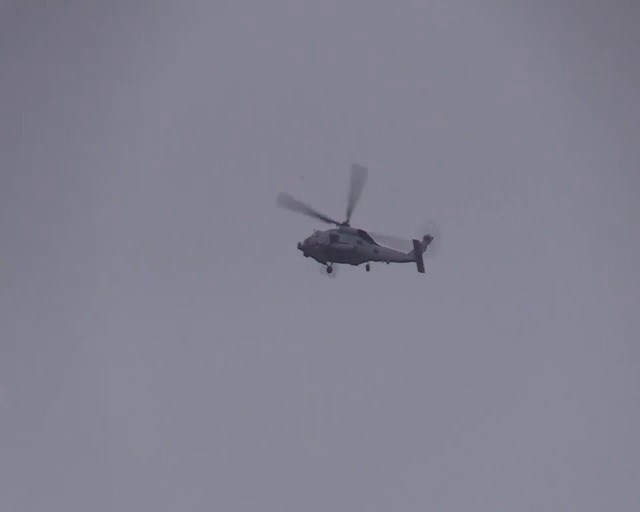HELICOPTER: (274, 163, 439, 276)
